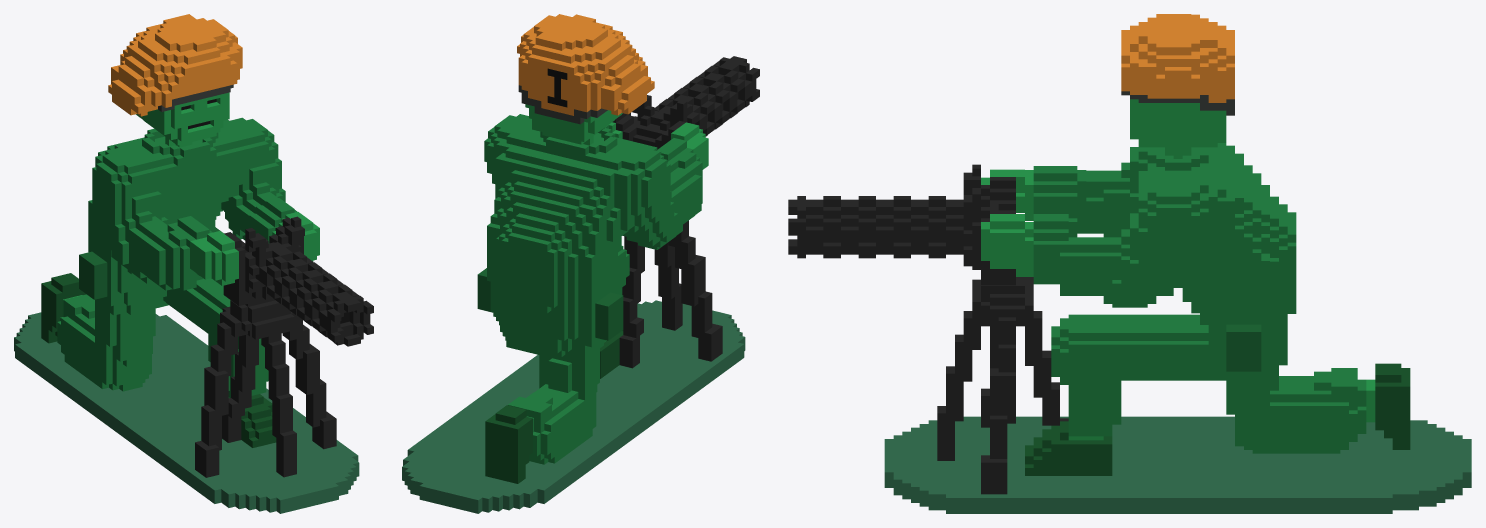
The model's file is machinegun_soldier_LVL1_4.0.obj.
The picture shows the model from 3 angles, left to right: view 1: azimuth 30°, elevation 25°; view 2: azimuth 150°, elevation 25°; view 3: azimuth 270°, elevation 25°; orthographic projection. The views are drawn at different scales.
Bounding box in the file's own units: 2.5 × 5.6 × 7.8.
Materials: 1 (1 with a texture image).
